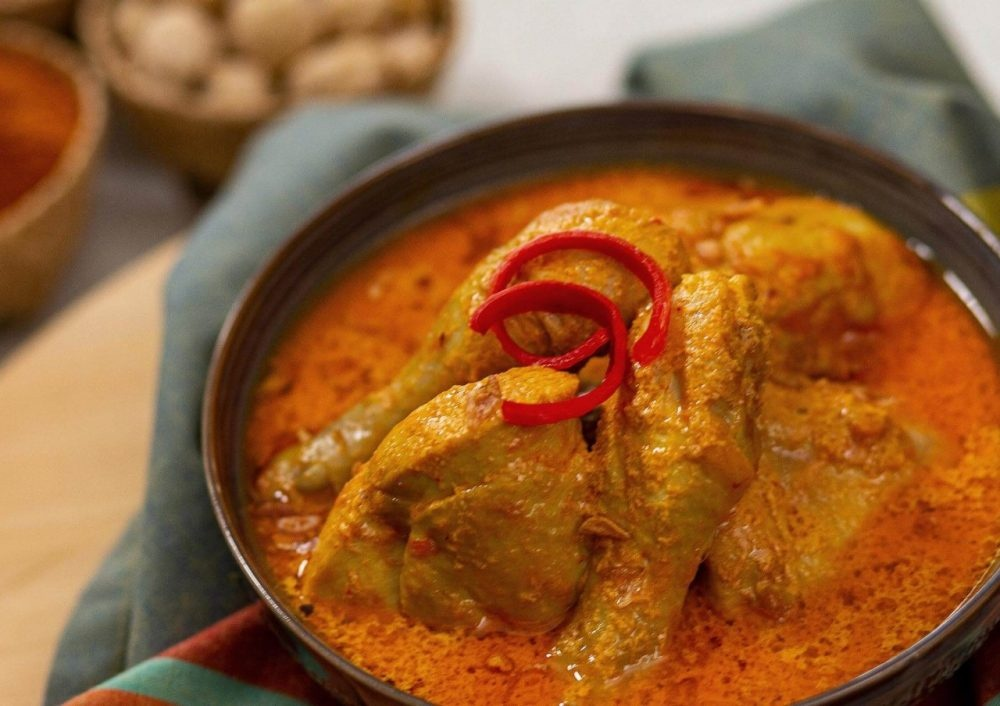gulai_ayam: (290, 123, 990, 684)
